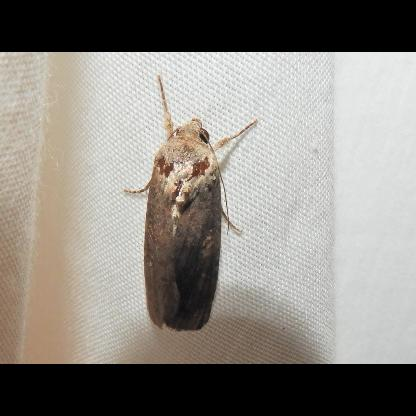Fall Armyworm Moth: (121, 72, 261, 334)
